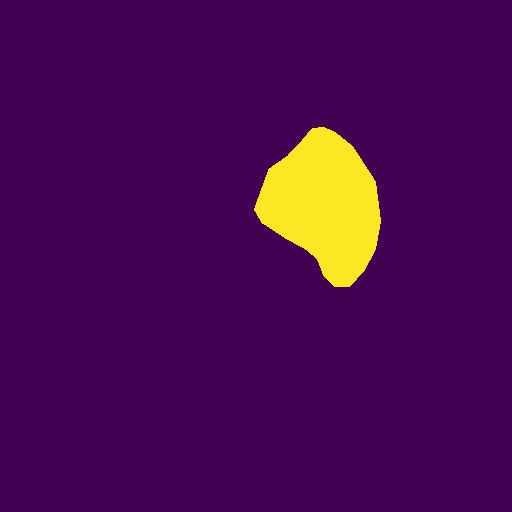Gliomia_tumour: (254, 127, 381, 287)
